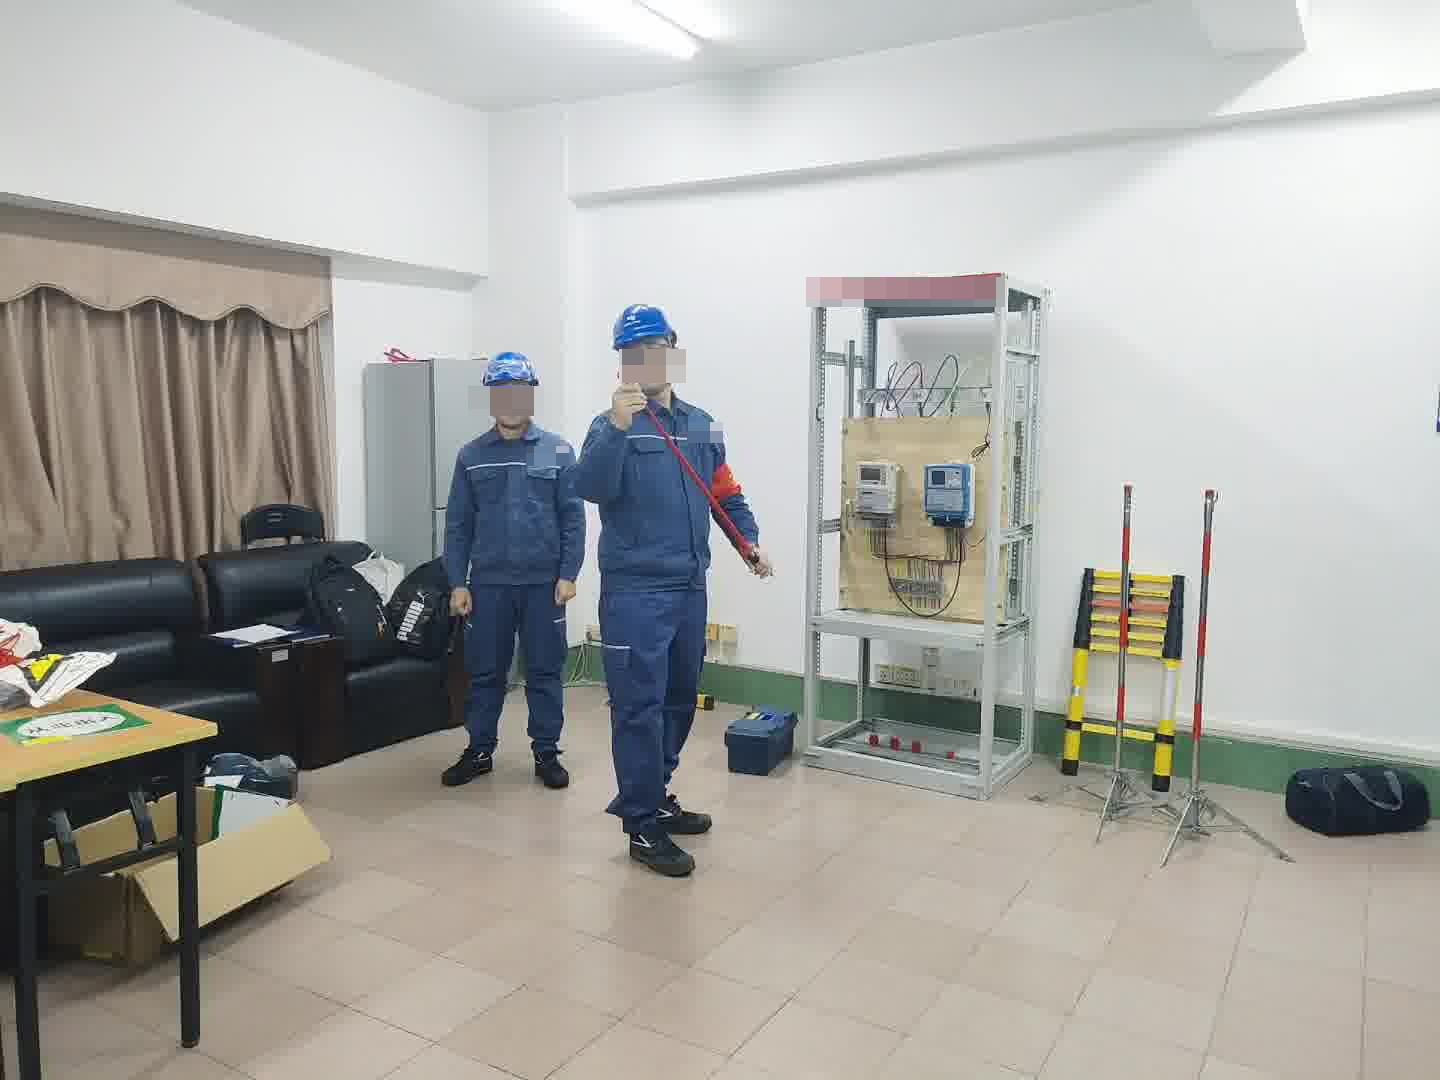badge: (707, 460, 746, 505)
downsuit: (599, 602, 707, 822), (461, 600, 569, 755)
halt: (610, 303, 683, 400), (479, 350, 544, 431)
hand: (599, 385, 649, 434), (732, 543, 777, 579), (446, 587, 483, 614), (551, 580, 580, 604)
person: (577, 300, 772, 868), (435, 348, 577, 786)
testrod: (615, 366, 771, 578)
upsuit: (578, 396, 752, 583), (441, 426, 573, 585)
